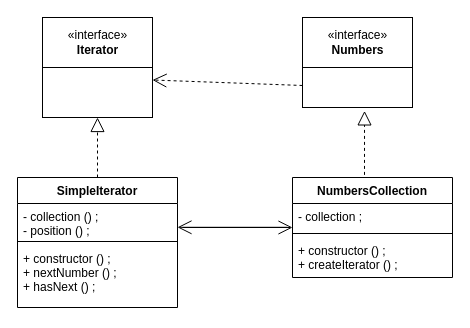
This 470x328 diagram has some shape labels left out. The centre of each missing label's shape, as x and y in pixels:
+ createIterator () ;: the point at 357,87
+ nextNumber () ; + hasNext () ;: the point at 97,92
